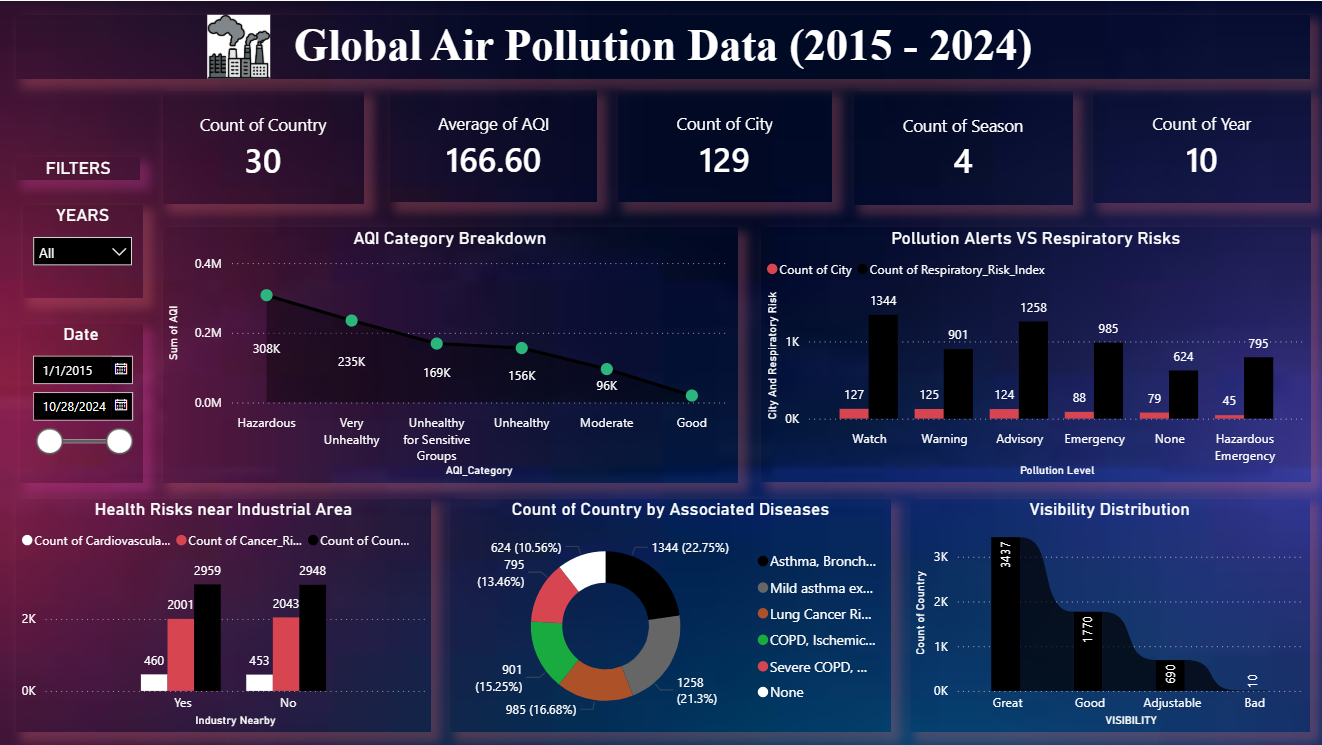

What the dashboard file says about the page in this screenshot:
{"tool":"powerbi","page":{"name":"Page 1","canvas":[1280,720],"ordinal":0},"visuals":[{"type":"clusteredColumnChart","title":"Pollution Alerts VS Respiratory Risks","fields":{"Category":["global_air_pollution_dataset.Pollution_Alert_Level"],"Y":["Count(global_air_pollution_dataset.City)","CountNonNull(global_air_pollution_dataset.Respiratory_Risk_Index)"]},"box":[734.3,218.6,530,245.7],"z":0},{"type":"cardVisual","fields":{"Data":["Count(global_air_pollution_dataset.Country)"]},"box":[156.8,86.9,194.2,108.6],"z":1000},{"type":"donutChart","title":"Count of Country by Associated Diseases","fields":{"Category":["global_air_pollution_dataset.Associated_Diseases"],"Y":["CountNonNull(global_air_pollution_dataset.Country)"]},"box":[434.3,480,425.7,225.7],"z":2000},{"type":"clusteredColumnChart","title":"Health Risks near Industrial Area","fields":{"Category":["global_air_pollution_dataset.Industry_Nearby"],"Y":["Count(global_air_pollution_dataset.Cardiovascular_Risk_Index)","Count(global_air_pollution_dataset.Cancer_Risk_Index)","CountNonNull(global_air_pollution_dataset.Country)"]},"box":[15.7,480,400,225.7],"z":3000},{"type":"cardVisual","fields":{"Data":["Avg(global_air_pollution_dataset.AQI)"]},"box":[376.4,85.7,200.3,108.6],"z":4000},{"type":"cardVisual","fields":{"Data":["Count(global_air_pollution_dataset.City)"]},"box":[596,85.7,207.5,108.6],"z":5000},{"type":"ribbonChart","title":"Visibility Distribution","fields":{"Category":["global_air_pollution_dataset.VISIBILITY"],"Y":["CountNonNull(global_air_pollution_dataset.Country)"]},"box":[878.6,480,385.7,225.7],"z":6000},{"type":"slicer","title":"YEARS","fields":{"Values":["global_air_pollution_dataset.Year"]},"box":[21.7,196.6,115.8,90.5],"z":7000},{"type":"stackedAreaChart","title":"AQI Category Breakdown","fields":{"Category":["global_air_pollution_dataset.AQI_Category"],"Y":["Sum(global_air_pollution_dataset.AQI)"]},"box":[156.8,218.4,555,246.1],"z":8000},{"type":"cardVisual","fields":{"Data":["Count(global_air_pollution_dataset.Season)"]},"box":[824,86.9,211.1,109.8],"z":9000},{"type":"cardVisual","fields":{"Data":["Count(global_air_pollution_dataset.Year)"]},"box":[1054.4,85.7,211.1,109.8],"z":10000},{"type":"textbox","box":[15.7,12.9,1248.6,61.4],"z":11000},{"type":"image","box":[0,13.3,460.9,61.5],"z":12000},{"type":"slicer","title":"Date","fields":{"Values":["global_air_pollution_dataset.Date"]},"box":[19.3,311.3,118.2,153.2],"z":13000},{"type":"shape","title":"FILTERS","box":[15.7,150.8,119.4,21.7],"z":14000}]}

Visuals, with their boxes in screenshot pixels (x1, y1, x2, y2), scaled from the page's 1280x720 canvas onto the 1322x745 screenshot:
"Pollution Alerts VS Respiratory Risks" clusteredColumnChart: (758,226,1306,480)
cardVisual - Count(global_air_pollution_dataset.Country): (162,90,363,202)
"Count of Country by Associated Diseases" donutChart: (449,497,888,730)
"Health Risks near Industrial Area" clusteredColumnChart: (16,497,429,730)
cardVisual - Avg(global_air_pollution_dataset.AQI): (389,89,596,201)
cardVisual - Count(global_air_pollution_dataset.City): (616,89,830,201)
"Visibility Distribution" ribbonChart: (907,497,1306,730)
"YEARS" slicer: (22,203,142,297)
"AQI Category Breakdown" stackedAreaChart: (162,226,735,481)
cardVisual - Count(global_air_pollution_dataset.Season): (851,90,1069,204)
cardVisual - Count(global_air_pollution_dataset.Year): (1089,89,1307,202)
textbox: (16,13,1306,77)
image: (0,14,476,77)
"Date" slicer: (20,322,142,481)
"FILTERS" shape: (16,156,140,178)
